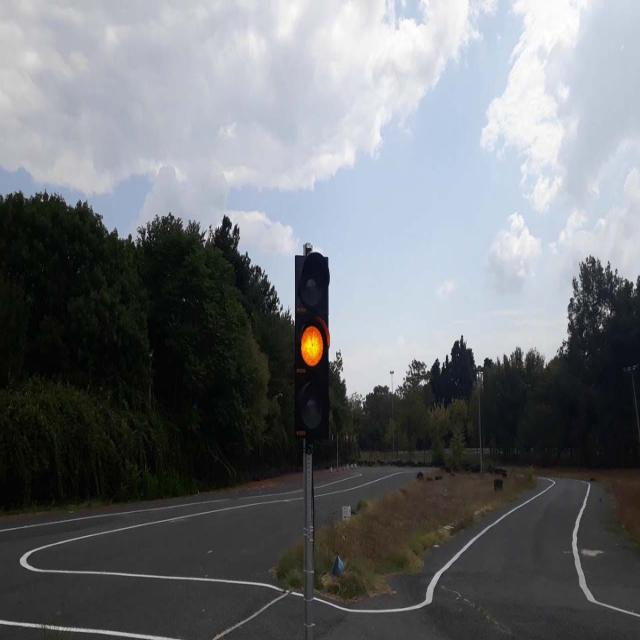sari: (295, 255, 329, 437)
